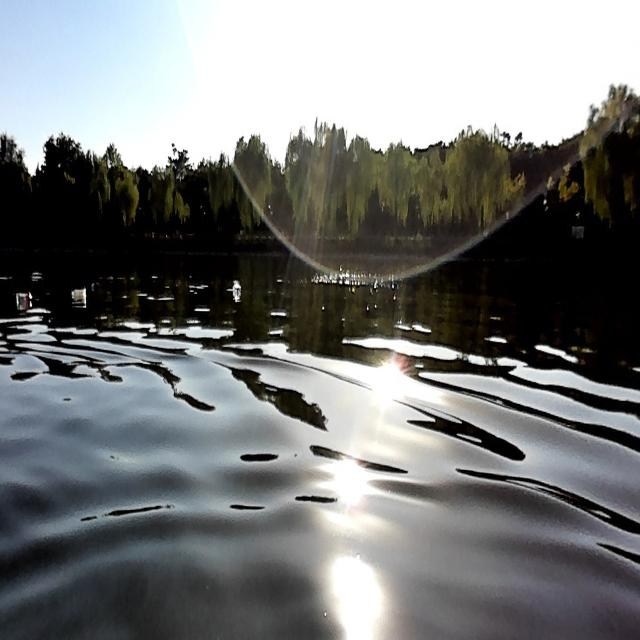bottle: (15, 286, 33, 305), (68, 285, 87, 299), (229, 280, 242, 296)
